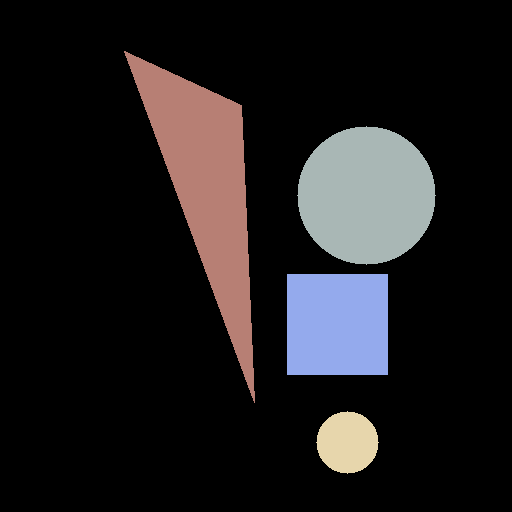circle: (297, 126, 435, 264), (316, 411, 378, 473)
square: (287, 274, 387, 374)
triangle: (124, 51, 254, 402)
